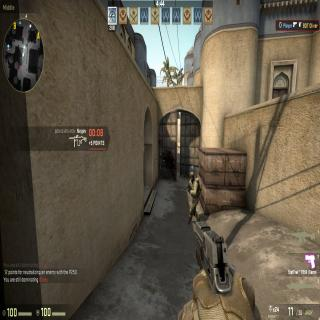CT-Body: (188, 171, 200, 223)
CT-Head: (189, 170, 195, 182)
